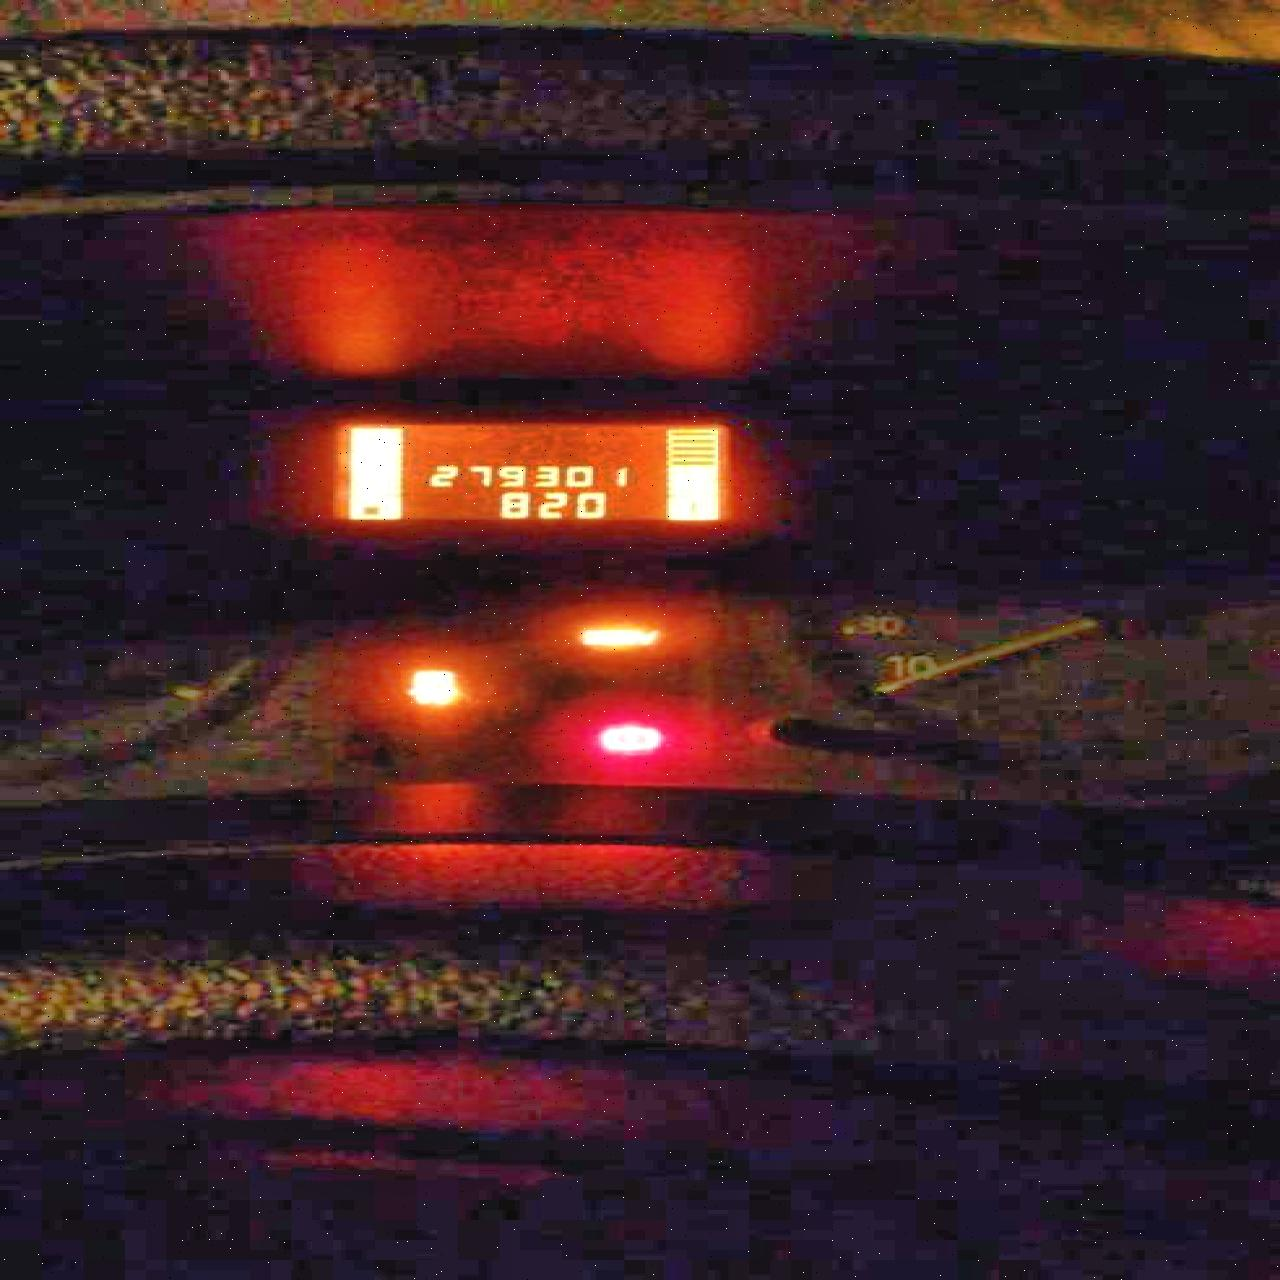0: (572, 490, 604, 519), (561, 465, 593, 486)
1: (611, 467, 627, 486)
2: (533, 491, 567, 519), (424, 463, 458, 488)
3: (531, 465, 559, 486)
7: (463, 464, 489, 488)
8: (497, 490, 527, 519)
9: (495, 464, 523, 486)
odometer: (322, 418, 731, 524)
